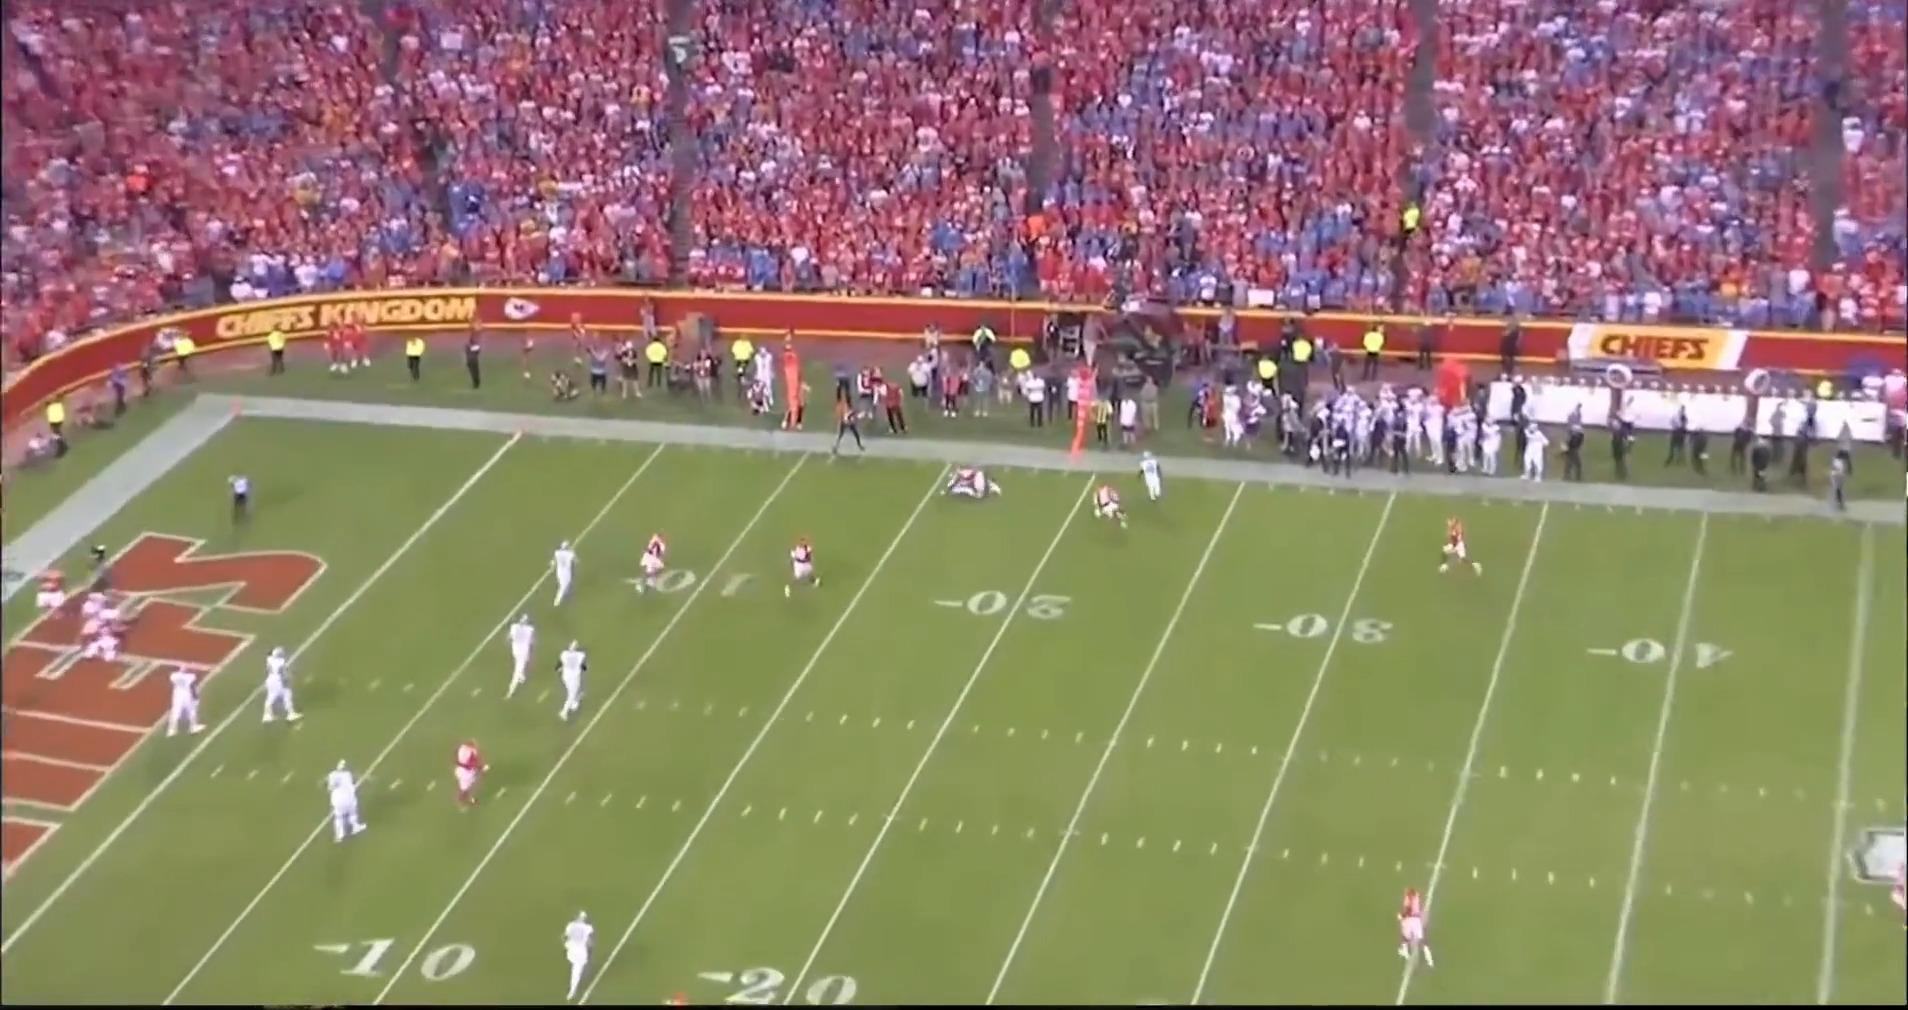defense: (1398, 881, 1445, 973), (1437, 514, 1489, 579), (449, 736, 490, 814), (76, 596, 120, 667), (633, 530, 671, 595), (784, 534, 821, 598), (945, 462, 999, 500), (1089, 484, 1128, 534)
oline: (322, 760, 362, 850), (257, 646, 300, 730), (160, 667, 204, 742), (549, 640, 582, 723), (507, 614, 541, 692)
ref: (1820, 449, 1852, 516), (829, 399, 864, 456), (226, 468, 256, 532)
skill: (551, 906, 591, 1001), (546, 537, 580, 607), (1139, 446, 1166, 508)
